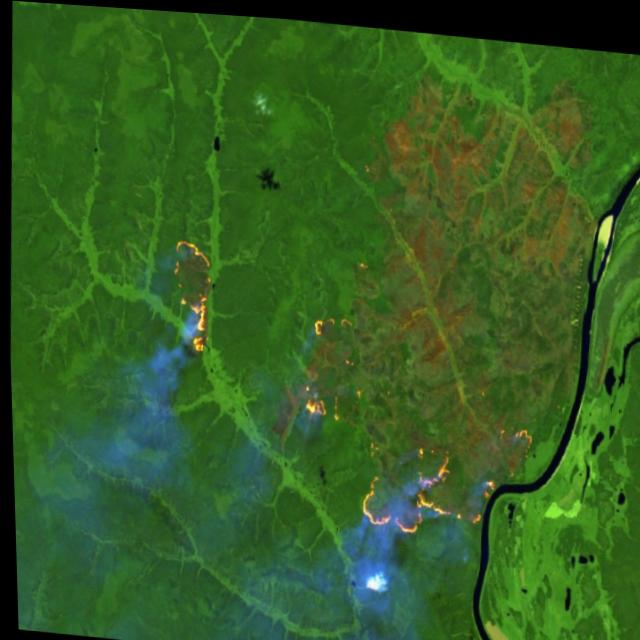fire: (287, 299, 541, 560), (165, 222, 217, 359)
